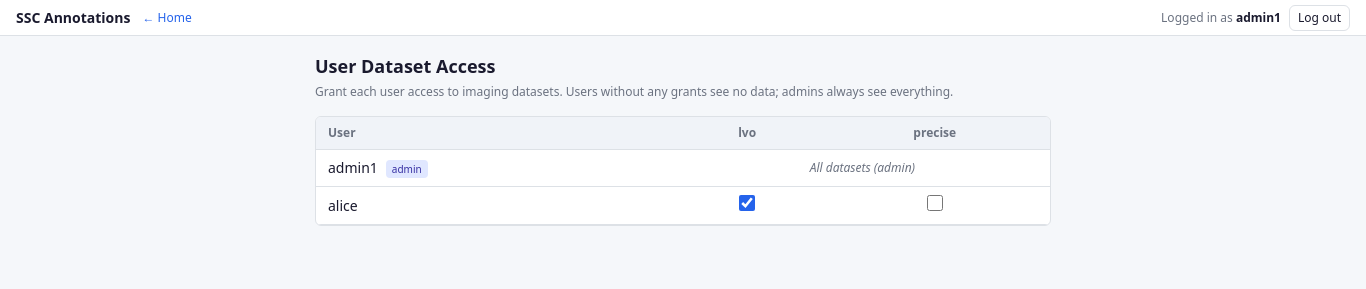
AdminUsers page › reverts the optimistic update when the PUT fails
Expected: the text "alice" is shown, [328, 196, 358, 214]
Click the checkbox named "Grant alice access to precise" at (935, 203), box [927, 195, 943, 211]
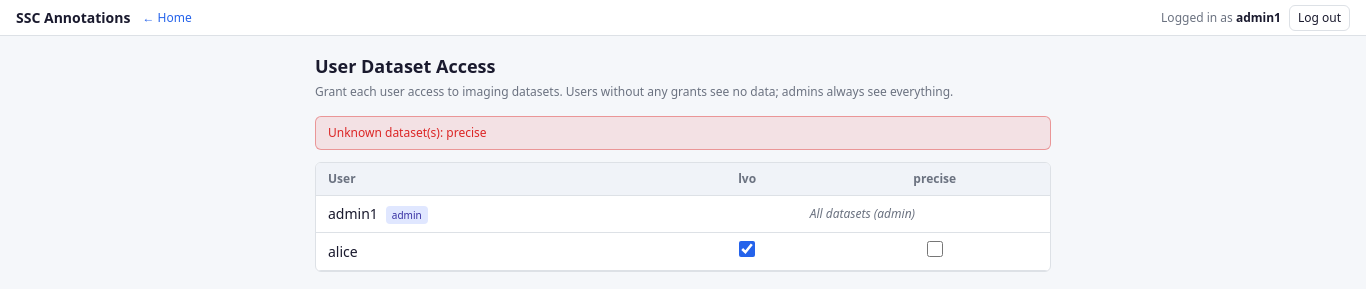
Expected: the checkbox named "Grant alice access to precise" is not checked, [927, 241, 943, 257]
Expected: the text "Unknown dataset(s): precise" is shown, [315, 116, 1051, 150]
